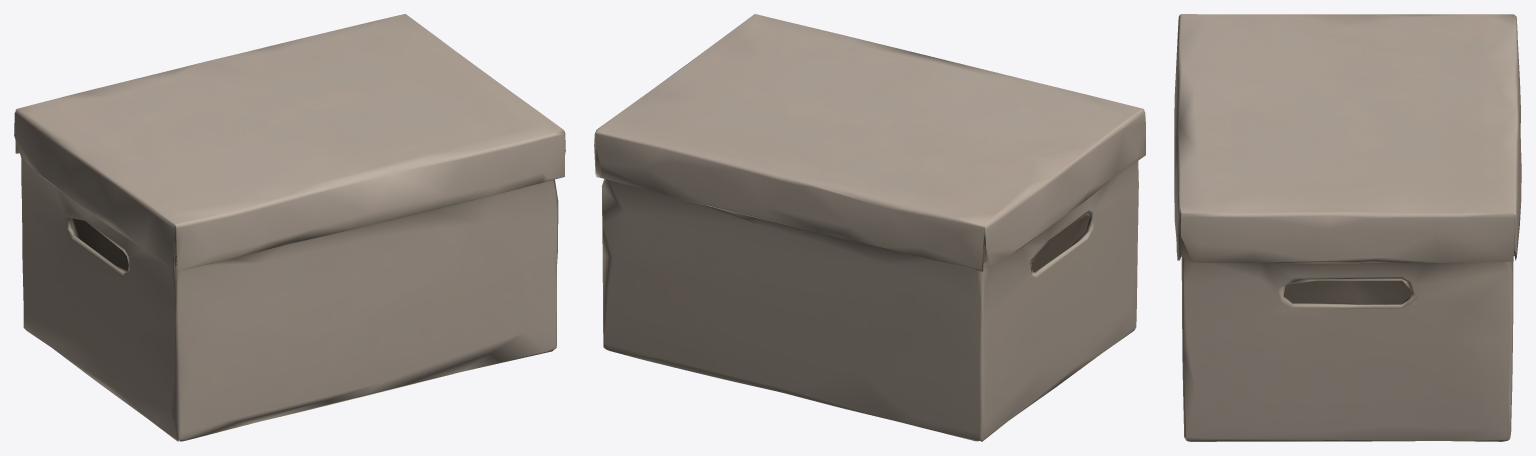
The model's file is ENV_TRUNK_v001_RAW.glb.
3 renders of one model, left to right at view 1: azimuth 30°, elevation 25°; view 2: azimuth 150°, elevation 25°; view 3: azimuth 270°, elevation 25°, orthographic. The views are drawn at different scales.
Parts seen in each view (by area): view 1: tripo_node_9b207460-490f-44e2-b6aa-f644c24a3c36; view 2: tripo_node_9b207460-490f-44e2-b6aa-f644c24a3c36; view 3: tripo_node_9b207460-490f-44e2-b6aa-f644c24a3c36.
Boxes of the visible parts, box(x1,y1,x2,y2) form: tripo_node_9b207460-490f-44e2-b6aa-f644c24a3c36: box(14, 14, 565, 441); tripo_node_9b207460-490f-44e2-b6aa-f644c24a3c36: box(594, 14, 1145, 441); tripo_node_9b207460-490f-44e2-b6aa-f644c24a3c36: box(1174, 14, 1521, 441).
Bounding box in the file's own units: 0.9801 × 0.5228 × 0.7038.
1 material, 1 textured.
